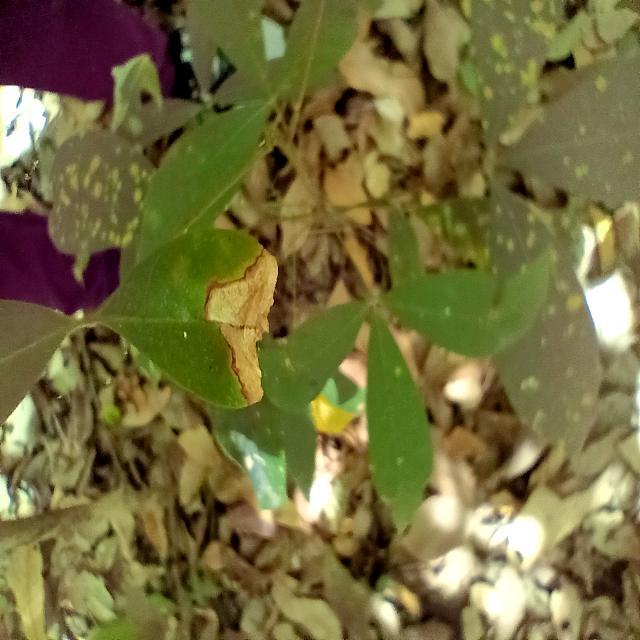Leaf-Blight: (205, 248, 278, 407)
